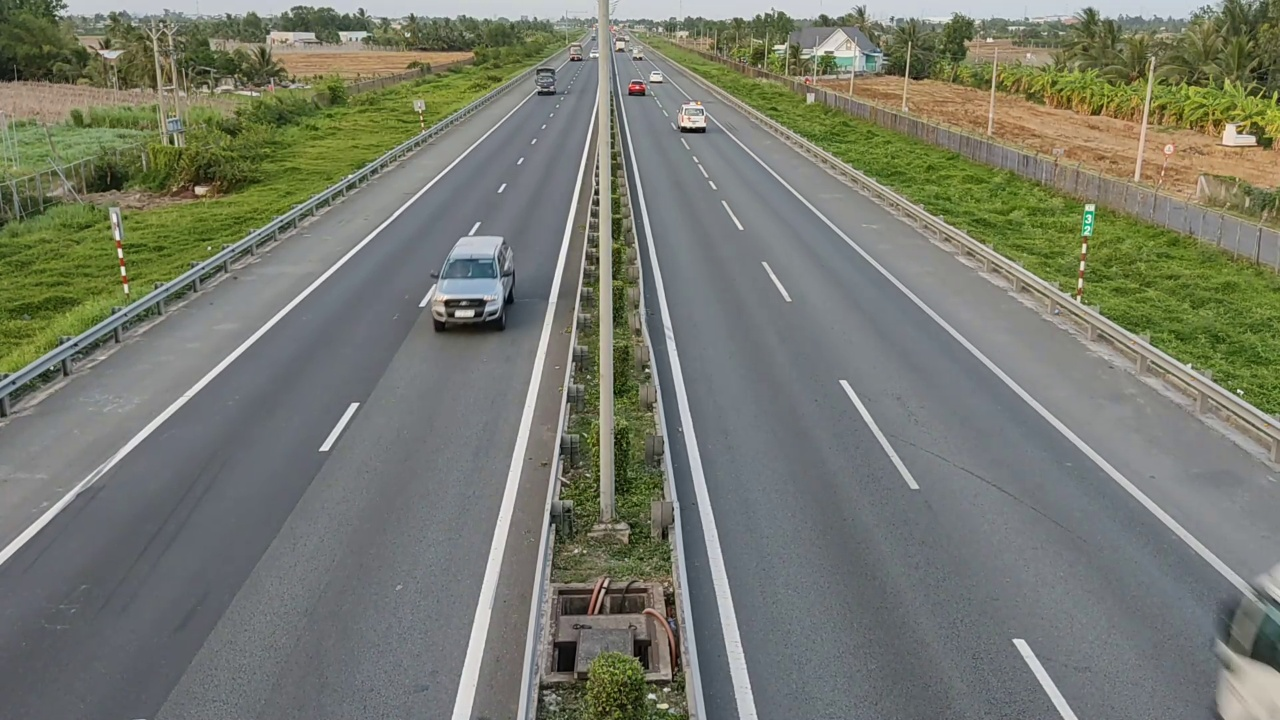car: (424, 229, 520, 341), (677, 101, 707, 132)
